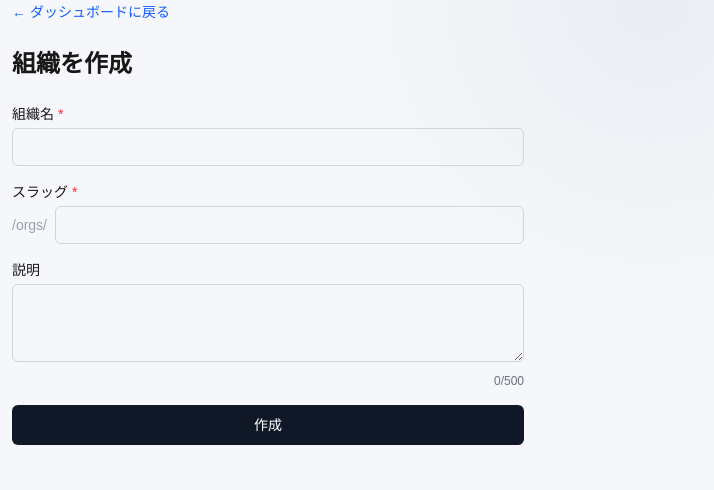
NewOrgPage › shows invalid slug feedback for malformed slug
The width and height of the screenshot is (714, 490).
Type "Research Lab" into the field labelled "組織名 *". click: (268, 147)
box: [12,128,524,166]
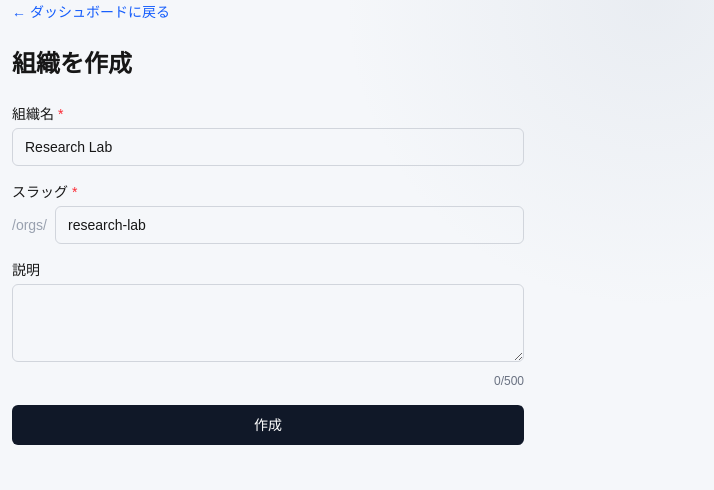
Replace the text in the field labelled "スラッグ *" with "bad--slug". click: (290, 225)
box: [55,206,524,244]
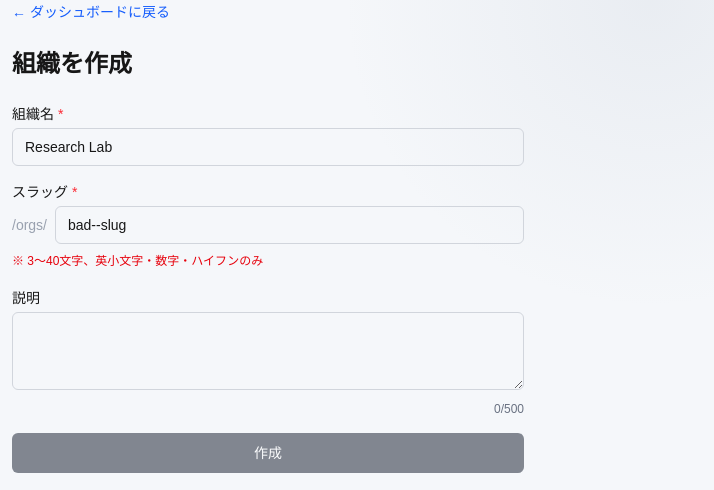
Expected: the text "※ 3〜40文字、英小文字・数字・ハイフンのみ" is shown, [12,254,263,268]
Expected: the button "作成" is disabled, [12,433,524,473]
